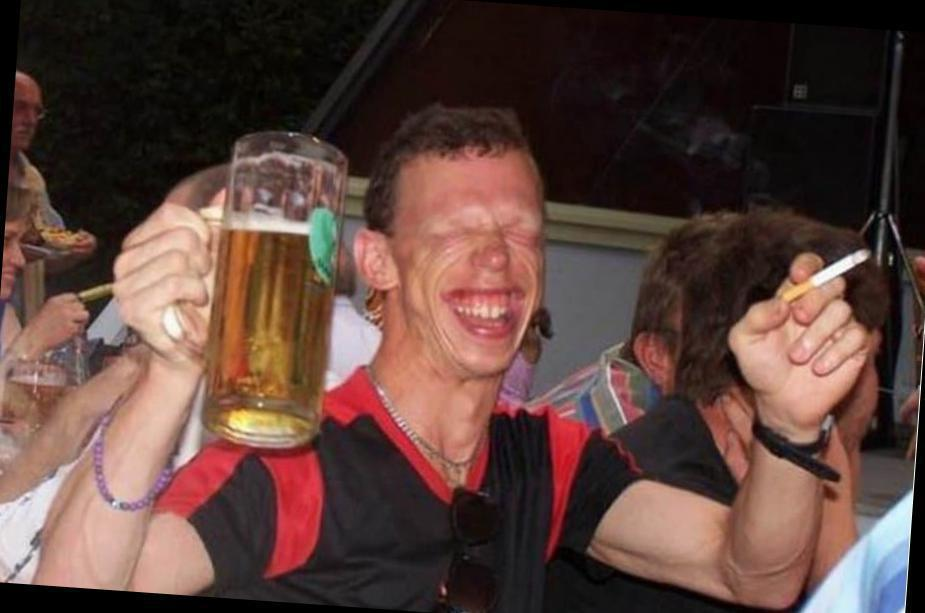Drunk: (399, 162, 544, 365)
